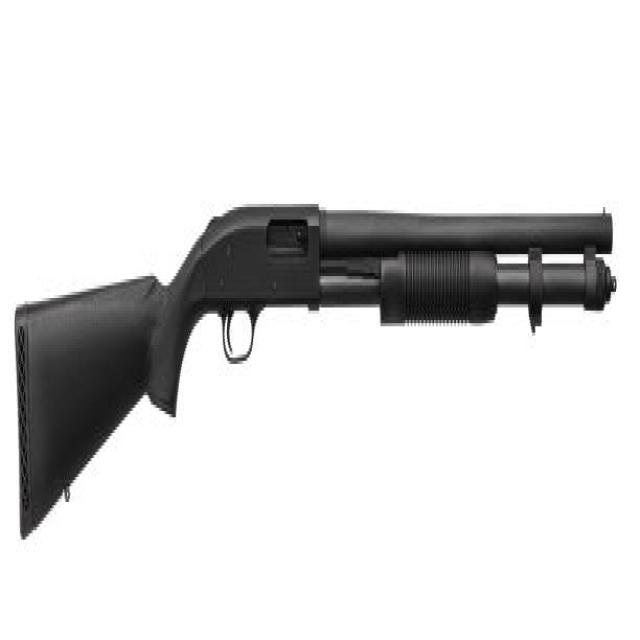rifle: (7, 186, 623, 560)
